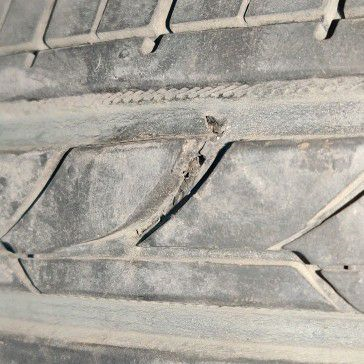tr: (136, 139, 210, 239)
